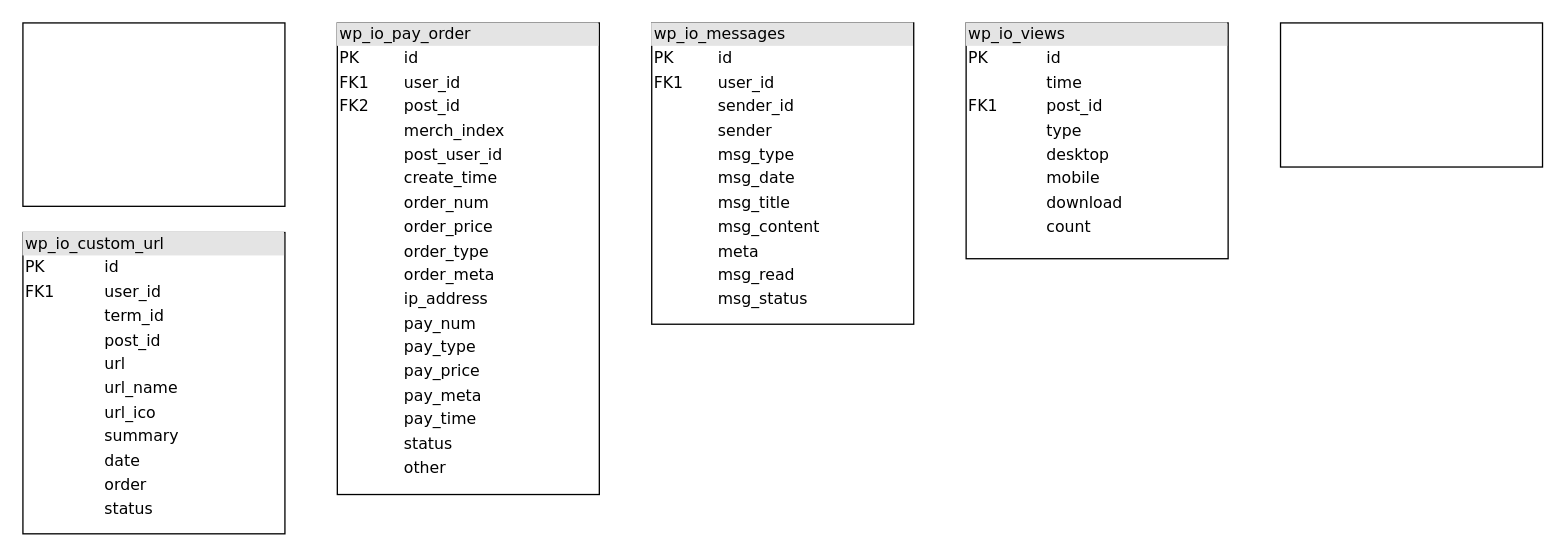
Some shapes in this 1565 by 557 pixel diagram are drawn without their labels. The shapes that lost their labels are listed below. From the top down, each one's box as (x1, y1, x2, y2) in pixels, then its label:
(22, 22, 285, 206): wp_io_custom_term PK id name ico FK1 user_id parent order
(1279, 22, 1543, 167): wp_termmeta PK meta_id FK1 term_id meta_key meta_value
